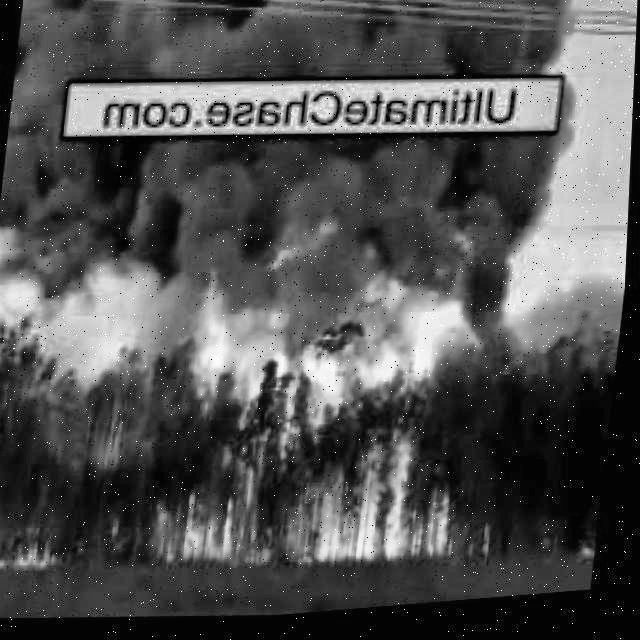Fire: (150, 219, 483, 591), (0, 527, 64, 576)
Smoke: (0, 93, 572, 261), (12, 0, 571, 120)
